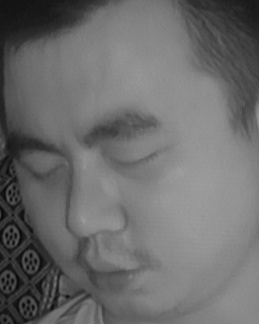blink: (109, 144, 160, 180), (25, 155, 67, 184)
mouth: (77, 250, 141, 295)
